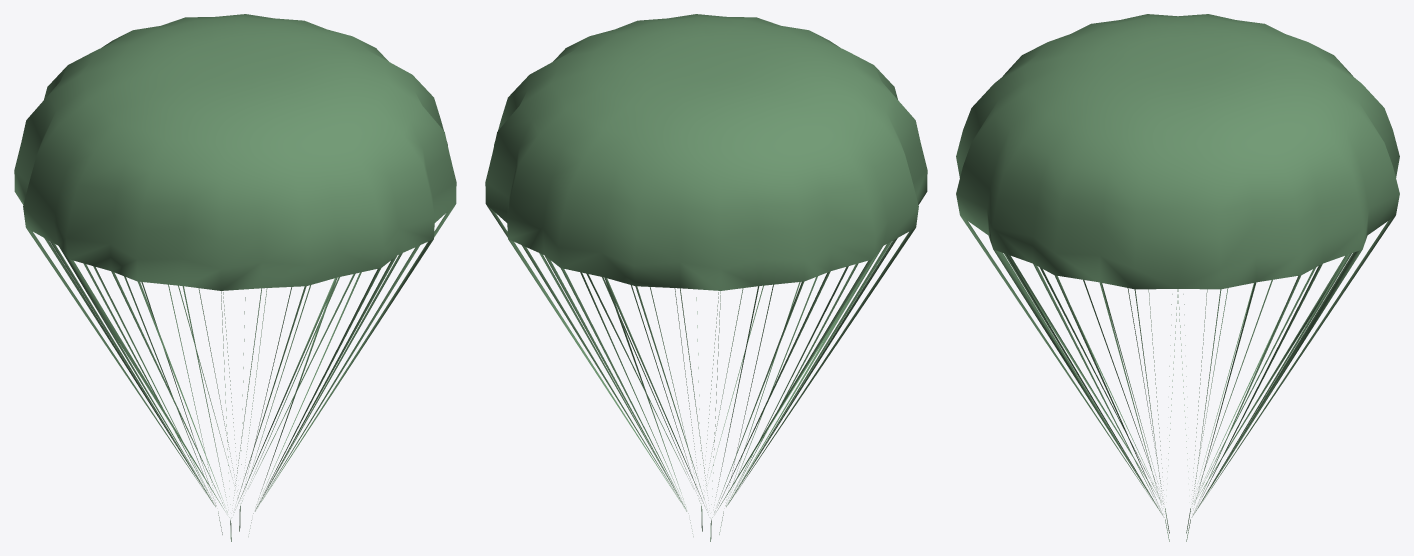
The model's file is parasut.fbx.
3 views of the same model, side by side, from view 1: azimuth 30°, elevation 25°; view 2: azimuth 150°, elevation 25°; view 3: azimuth 270°, elevation 25° (orthographic).
Visible parts, largest first — view 1: Parasut; view 2: Parasut; view 3: Parasut.
Part boxes in pixels (x1=…): Parasut: x1=14, y1=14, x2=456, y2=541; Parasut: x1=485, y1=14, x2=927, y2=541; Parasut: x1=956, y1=14, x2=1399, y2=541.
Bounding box in the file's own units: 10.14 × 12.17 × 10.17.
